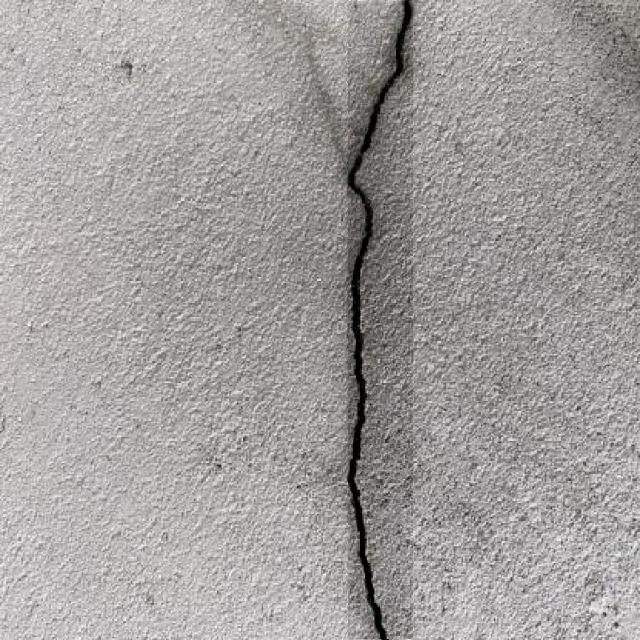vertical crack: (348, 3, 413, 638)
